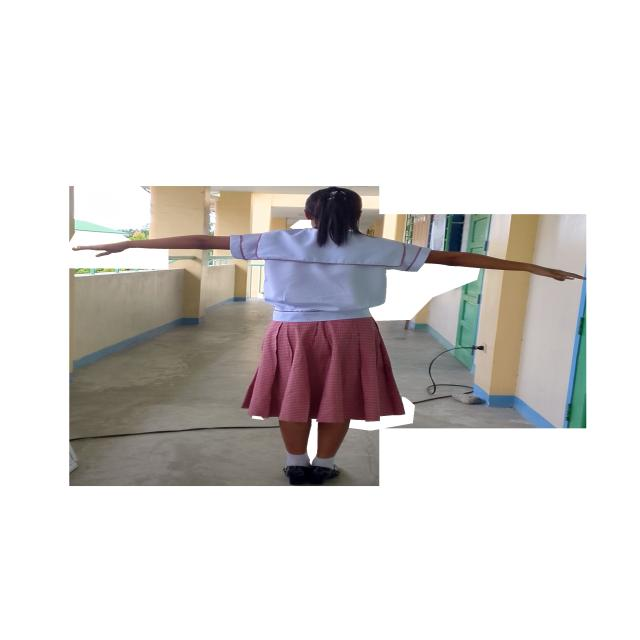pologirl: (230, 229, 430, 322)
shoes: (283, 465, 339, 485)
skirt: (241, 317, 404, 422)
